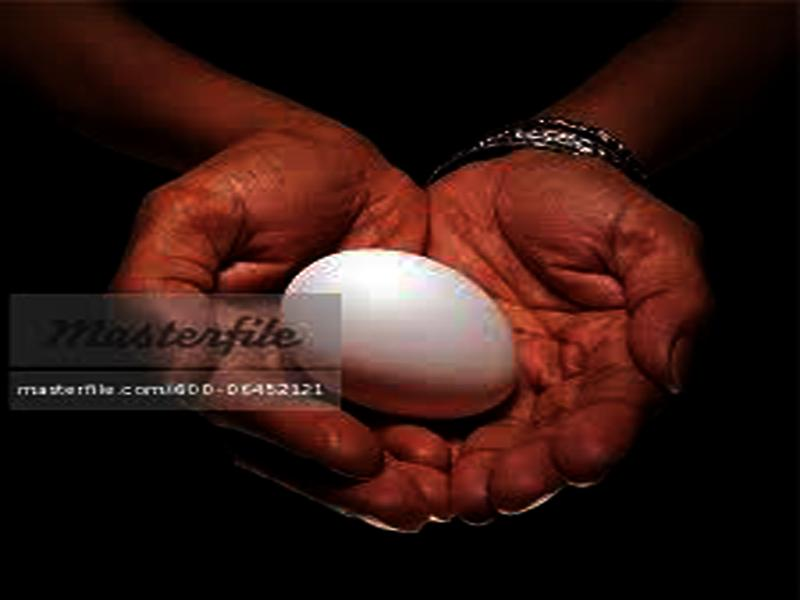Eggs: (288, 251, 519, 421)
